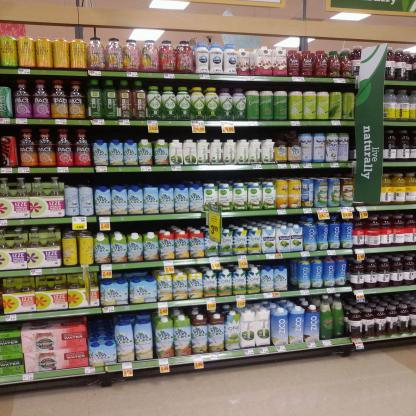Void: (87, 317, 110, 331), (277, 128, 299, 142)
